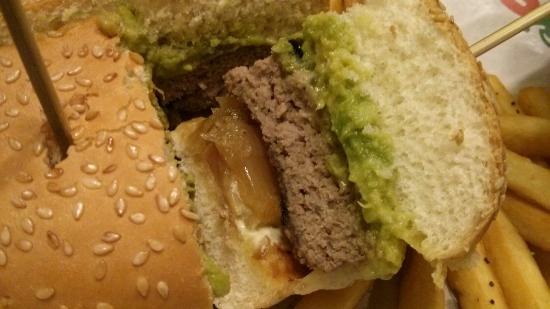ground_beef: (237, 42, 381, 267)
